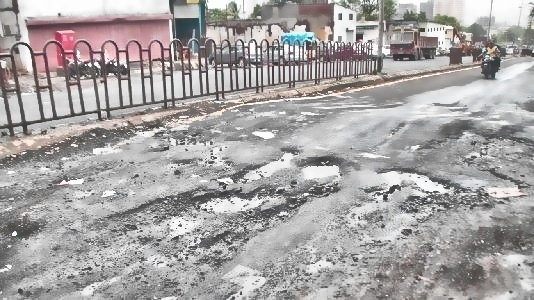pothole: (108, 187, 308, 233), (375, 167, 461, 196), (238, 146, 301, 181), (299, 155, 345, 181), (162, 134, 212, 147), (483, 183, 526, 197), (251, 127, 275, 140)
